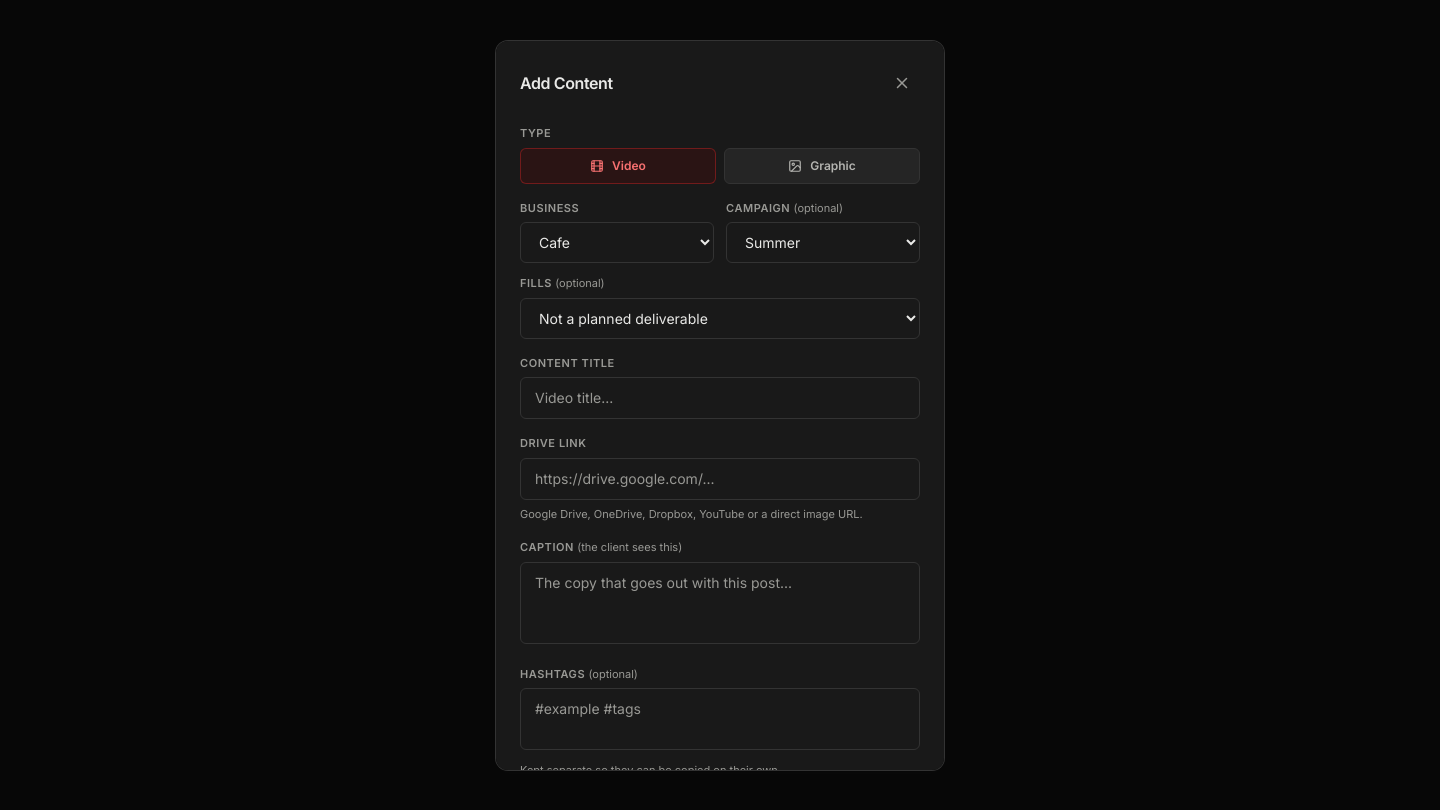
AddContentModal — filing › drops the campaign when the business changes to one it does not belong to
Expected: the dropdown labelled "Campaign (optional)" shows "Summer", [726,222,920,262]
Select "Bakery" in the dropdown labelled "Business": [617, 242] box [520,222,714,262]
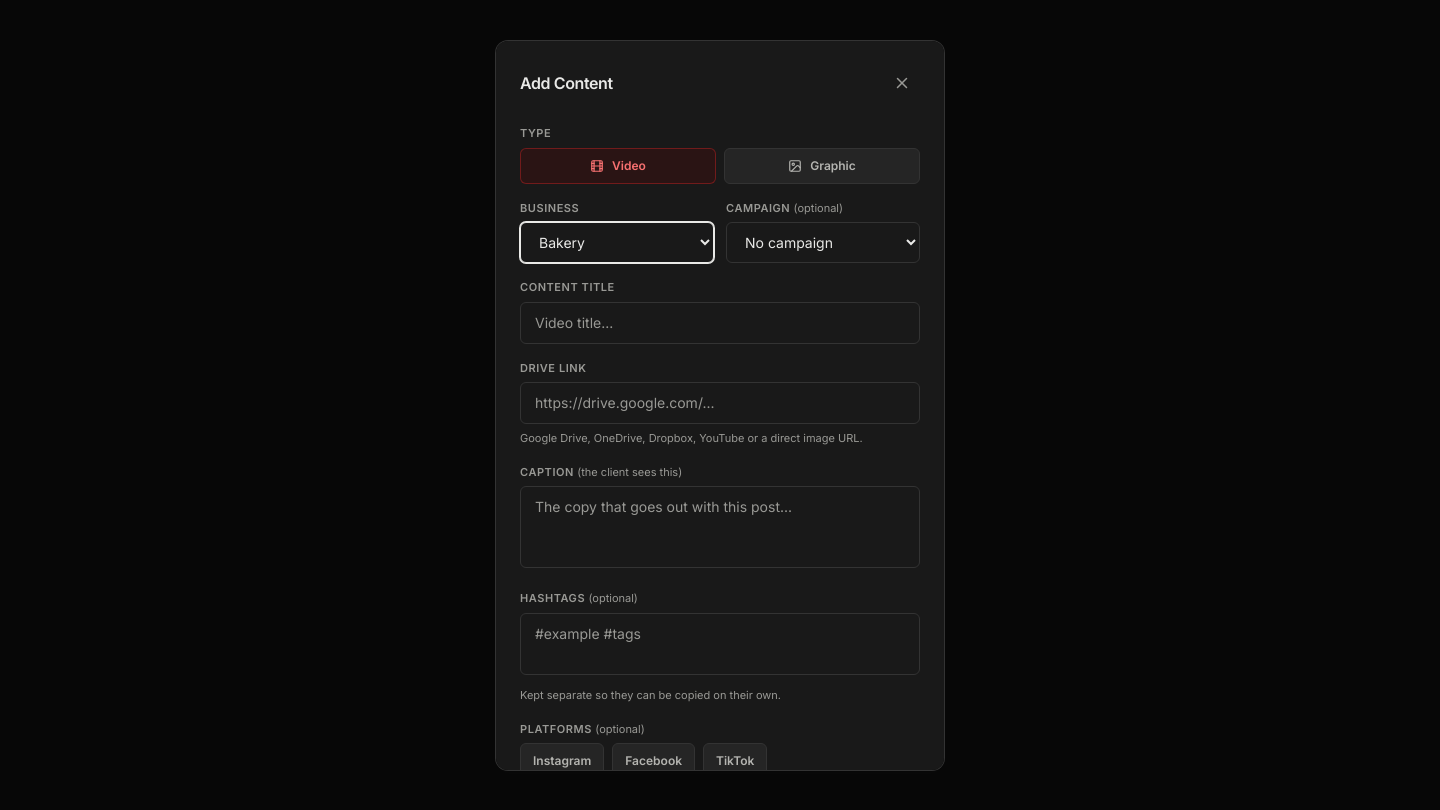
Expected: the dropdown labelled "Campaign (optional)" shows "No campaign", [726,222,920,262]
